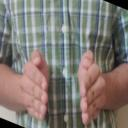hand: (76, 49, 127, 127), (13, 49, 49, 121)
